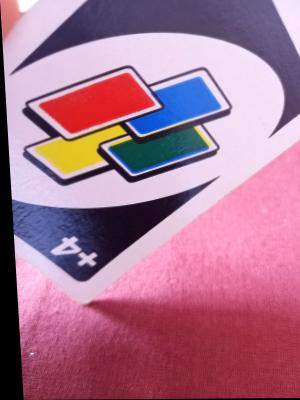wild-4: (2, 0, 300, 309), (42, 228, 104, 280)
